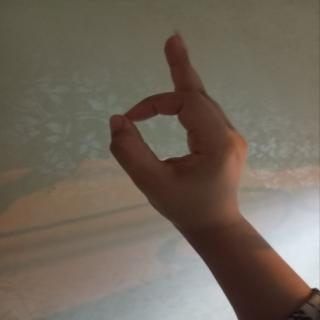Space: (104, 24, 256, 242)
